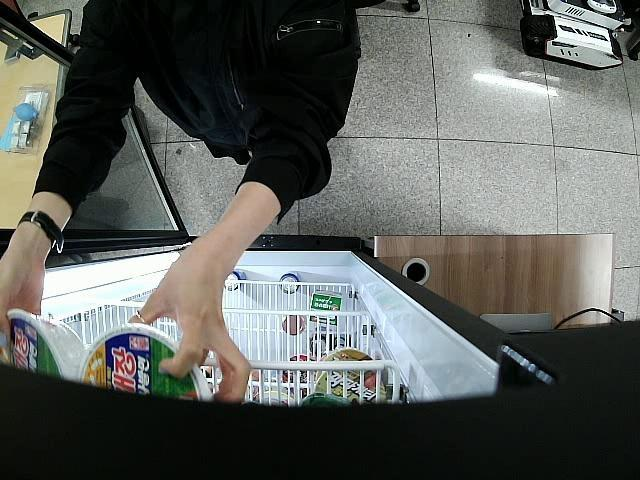09_yukGaeJang: (77, 321, 214, 406), (0, 308, 82, 386)
